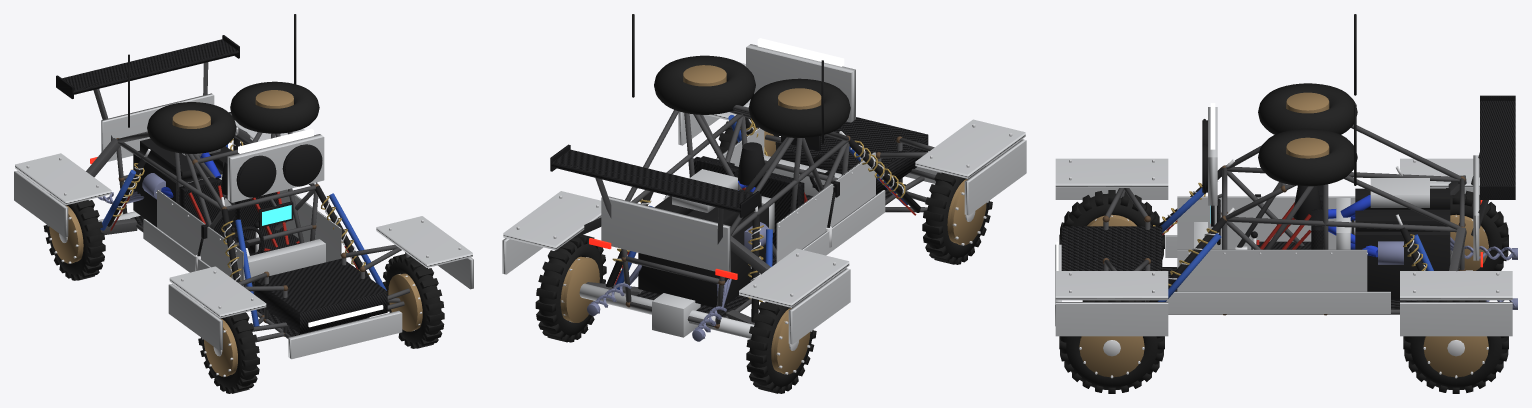
Rendered from buggy.glb.
3 renders of one model, left to right at view 1: azimuth 30°, elevation 25°; view 2: azimuth 150°, elevation 25°; view 3: azimuth 270°, elevation 25°, orthographic. The views are drawn at different scales.
Visible parts, largest first — view 1: Grupo_7_23piezas, Grupo_8_102piezas, Grupo_14_15piezas, Grupo_2_57piezas, Grupo_0_57piezas, Grupo_9_34piezas, Grupo_4_4piezas, Grupo_15_2piezas, Grupo_3_334piezas, Grupo_5_224piezas, Grupo_12_92piezas, Grupo_6_14piezas (+1 smaller); view 2: Grupo_7_23piezas, Grupo_8_102piezas, Grupo_14_15piezas, Grupo_0_57piezas, Grupo_2_57piezas, Grupo_9_34piezas, Grupo_12_92piezas, Grupo_3_334piezas, Grupo_15_2piezas, Grupo_5_224piezas, Grupo_4_4piezas; view 3: Grupo_7_23piezas, Grupo_8_102piezas, Grupo_14_15piezas, Grupo_0_57piezas, Grupo_2_57piezas, Grupo_9_34piezas, Grupo_4_4piezas, Grupo_3_334piezas, Grupo_12_92piezas, Grupo_13_5piezas, Grupo_6_14piezas, Grupo_5_224piezas.
Part boxes in pixels (<box>): Grupo_7_23piezas: <box>14,93,473,359</box>; Grupo_8_102piezas: <box>43,81,444,393</box>; Grupo_14_15piezas: <box>56,35,387,336</box>; Grupo_2_57piezas: <box>107,14,370,326</box>; Grupo_0_57piezas: <box>86,62,409,342</box>; Grupo_9_34piezas: <box>49,90,422,376</box>; Grupo_4_4piezas: <box>100,144,386,326</box>; Grupo_15_2piezas: <box>238,128,383,327</box>; Grupo_3_334piezas: <box>26,127,461,376</box>; Grupo_5_224piezas: <box>112,138,369,281</box>; Grupo_12_92piezas: <box>98,173,165,203</box>; Grupo_6_14piezas: <box>110,185,358,269</box>; Grupo_7_23piezas: <box>502,44,1026,344</box>; Grupo_8_102piezas: <box>535,55,992,393</box>; Grupo_14_15piezas: <box>550,117,928,317</box>; Grupo_0_57piezas: <box>574,105,935,326</box>; Grupo_2_57piezas: <box>606,14,920,322</box>; Grupo_9_34piezas: <box>560,65,986,374</box>; Grupo_12_92piezas: <box>587,222,768,341</box>; Grupo_3_334piezas: <box>516,119,1012,374</box>; Grupo_15_2piezas: <box>757,38,844,66</box>; Grupo_5_224piezas: <box>612,118,905,301</box>; Grupo_4_4piezas: <box>615,115,907,289</box>; Grupo_7_23piezas: <box>1055,107,1512,336</box>; Grupo_8_102piezas: <box>1059,83,1508,393</box>; Grupo_14_15piezas: <box>1061,95,1515,309</box>; Grupo_0_57piezas: <box>1103,124,1488,314</box>; Grupo_2_57piezas: <box>1149,14,1450,301</box>; Grupo_9_34piezas: <box>1079,92,1488,377</box>; Grupo_4_4piezas: <box>1157,187,1433,301</box>; Grupo_3_334piezas: <box>1069,159,1499,378</box>; Grupo_12_92piezas: <box>1378,237,1517,309</box>; Grupo_13_5piezas: <box>1328,195,1377,257</box>; Grupo_6_14piezas: <box>1162,202,1311,249</box>; Grupo_5_224piezas: <box>1153,182,1427,286</box>.
Size of the model in its own units: 2.76 by 2.6 by 3.9.
Materials: 18 (2 with a texture image).
